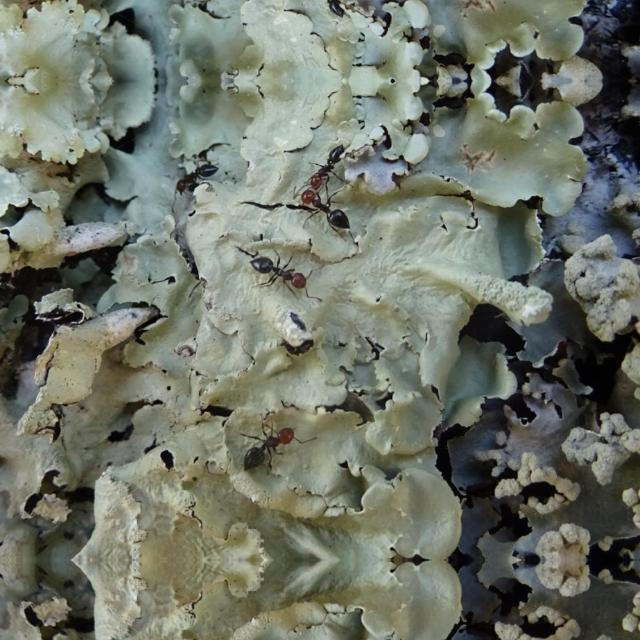Crematogaster: (242, 411, 306, 473), (283, 182, 353, 238), (246, 244, 312, 292), (172, 154, 220, 196)
